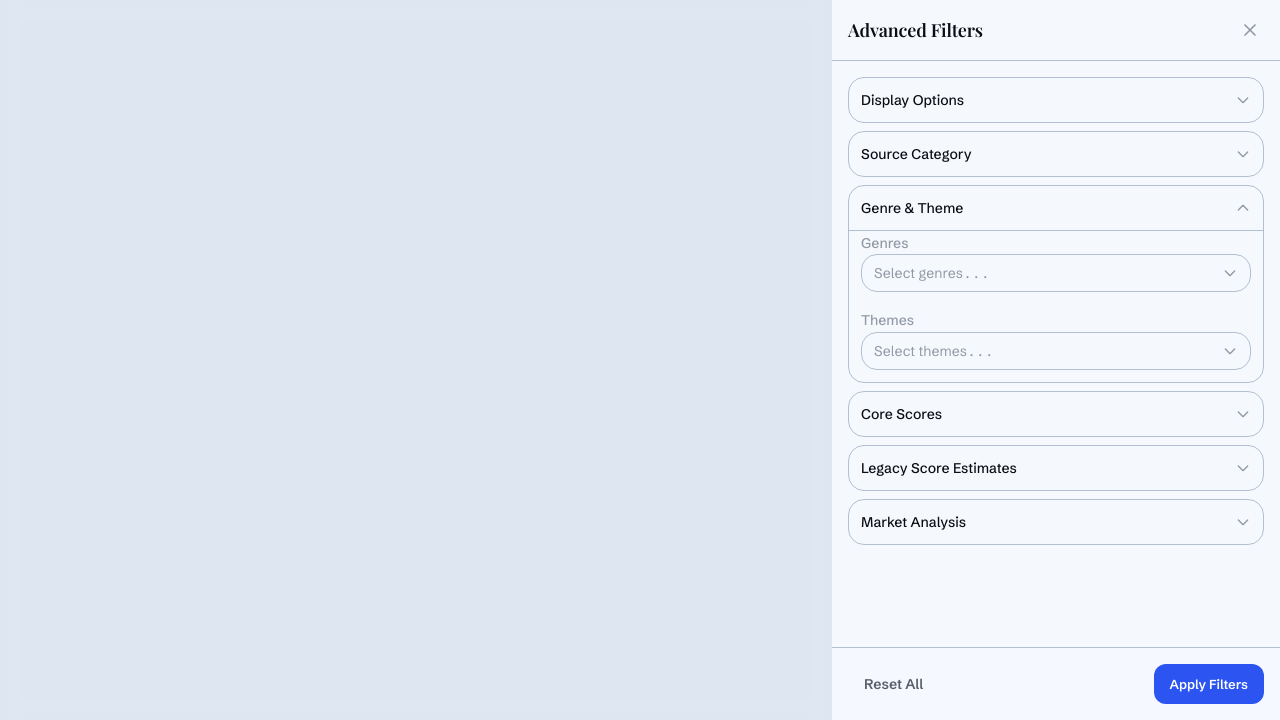
it: FilterPanel › section headers › closes currently open section when clicking another section
expect the text "Genres" is shown: met, box [861,234,908,252]
# Open Display Options
Click the button "Display Options".
click(913, 100)  # box [849,78,1263,122]
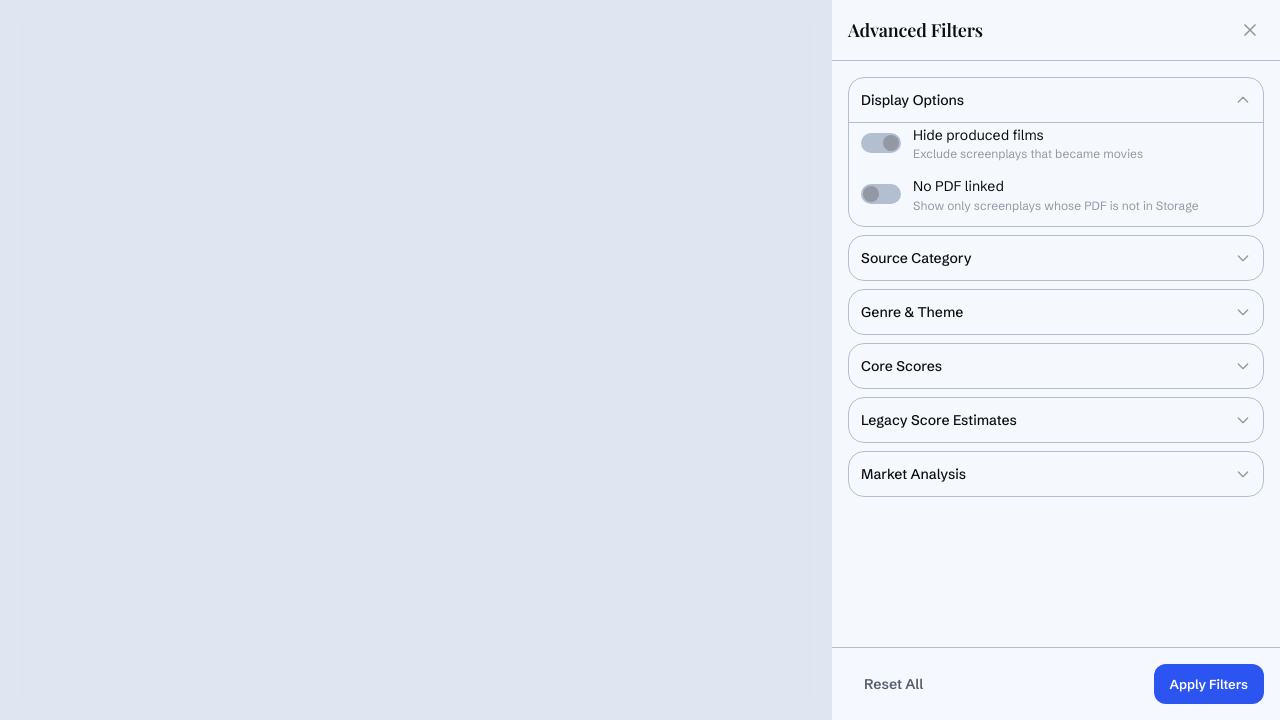
expect the text "Genres" is gone: met
expect the text "Hide produced films" is shown: met, box [913,126,1044,144]
